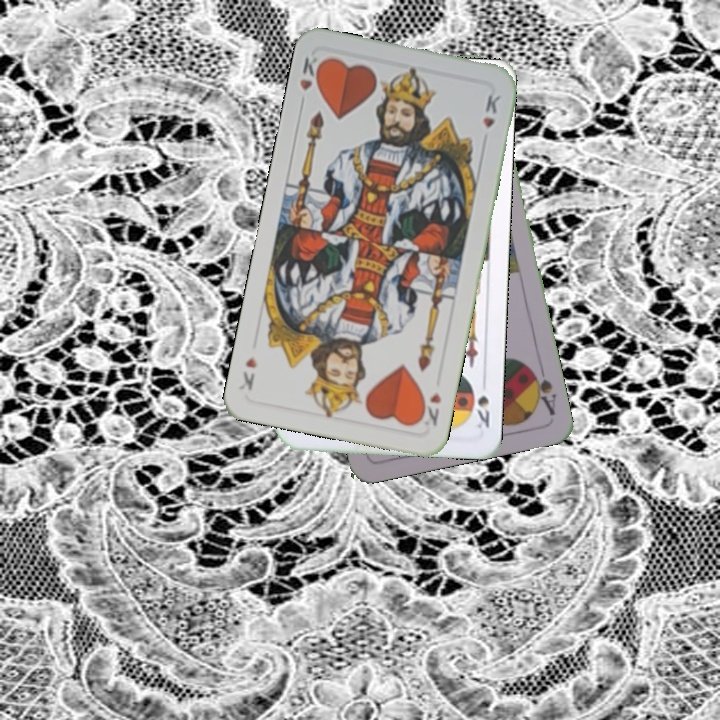HK: (295, 51, 326, 110), (415, 388, 444, 429)
SA: (525, 360, 559, 419)
SK: (467, 379, 492, 431)
